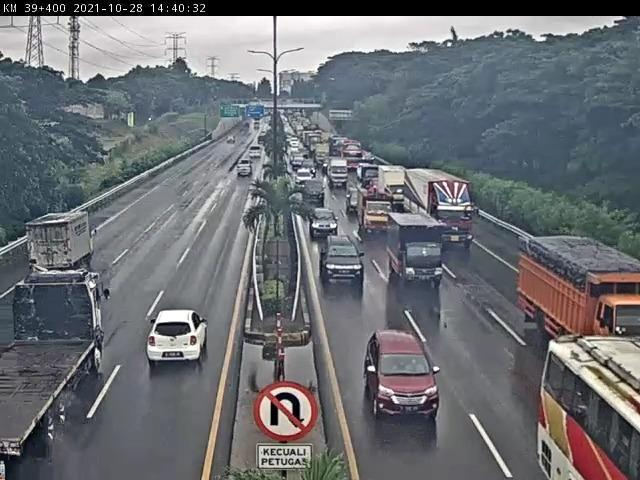bus: (512, 311, 640, 480)
car: (363, 333, 440, 415), (148, 312, 206, 367), (322, 234, 365, 284), (309, 205, 338, 238), (304, 182, 327, 206)
truck: (1, 274, 107, 478), (518, 235, 640, 347), (402, 168, 476, 248), (28, 211, 96, 276), (392, 214, 447, 285), (359, 197, 391, 237), (379, 166, 408, 209)
